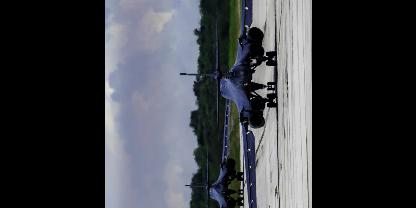AV8B: (177, 0, 277, 207), (183, 99, 243, 207)
